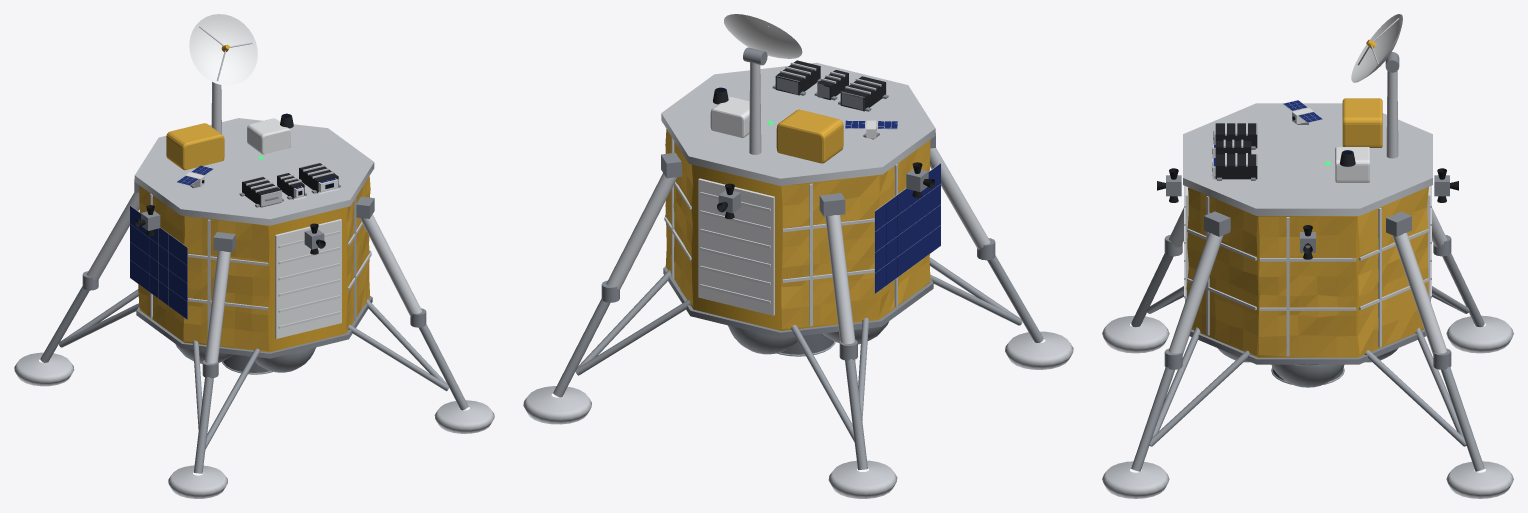
Rendered from ride-commercial.glb.
The picture shows the model from 3 angles, left to right: view 1: azimuth 30°, elevation 25°; view 2: azimuth 150°, elevation 25°; view 3: azimuth 270°, elevation 25°; orthographic projection. The views are drawn at different scales.
Parts seen in each view (by area): view 1: top-deck, body-faces-mli_gold_crinkled, legs-aluminium, legs-titanium, body-faces-panel_white, solar-panel-cells, hga-dish, body-mli, payload-box, body-faces-mli_tape, legs-aluminium_dark, bottom-deck (+6 smaller); view 2: top-deck, body-faces-mli_gold_crinkled, legs-aluminium, legs-titanium, body-faces-panel_white, solar-panel-cells, body-mli, payload-box, body-faces-mli_tape, hga-dish, bottom-deck, legs-aluminium_dark (+7 smaller); view 3: body-faces-mli_gold_crinkled, top-deck, legs-aluminium, legs-titanium, body-faces-mli_tape, legs-aluminium_dark, payload-box, bottom-deck, hga-dish, tanks-titanium, body-mli, avionics-box (+8 smaller).
Boxes of the visible parts, <box> form: top-deck: <box>134,118,374,225</box>; body-faces-mli_gold_crinkled: <box>138,176,370,350</box>; legs-aluminium: <box>14,192,494,498</box>; legs-titanium: <box>40,286,468,473</box>; body-faces-panel_white: <box>275,219,341,338</box>; solar-panel-cells: <box>130,206,187,319</box>; hga-dish: <box>189,14,257,85</box>; body-mli: <box>140,207,361,352</box>; payload-box: <box>166,123,224,170</box>; body-faces-mli_tape: <box>150,193,371,334</box>; legs-aluminium_dark: <box>82,179,426,378</box>; bottom-deck: <box>136,296,372,358</box>; top-deck: <box>661,62,935,185</box>; body-faces-mli_gold_crinkled: <box>665,129,930,328</box>; legs-aluminium: <box>523,148,1073,498</box>; legs-titanium: <box>553,255,1043,470</box>; body-faces-panel_white: <box>698,178,774,315</box>; solar-panel-cells: <box>875,163,940,293</box>; body-mli: <box>674,164,929,330</box>; payload-box: <box>776,109,843,163</box>; body-faces-mli_tape: <box>664,137,897,326</box>; hga-dish: <box>724,14,802,58</box>; bottom-deck: <box>663,266,933,338</box>; legs-aluminium_dark: <box>601,133,995,360</box>; body-faces-mli_gold_crinkled: <box>1186,187,1428,356</box>; top-deck: <box>1183,103,1432,215</box>; legs-aluminium: <box>1102,208,1513,498</box>; legs-titanium: <box>1131,253,1484,471</box>; body-faces-mli_tape: <box>1187,196,1428,356</box>; legs-aluminium_dark: <box>1164,211,1451,369</box>; payload-box: <box>1342,98,1382,147</box>; bottom-deck: <box>1185,298,1430,364</box>; hga-dish: <box>1351,14,1402,82</box>; tanks-titanium: <box>1217,348,1398,387</box>; body-mli: <box>1188,187,1427,357</box>; avionics-box: <box>1335,147,1369,182</box>.
Bounding box in the file's own units: 4.14 × 4.4 × 4.14.
